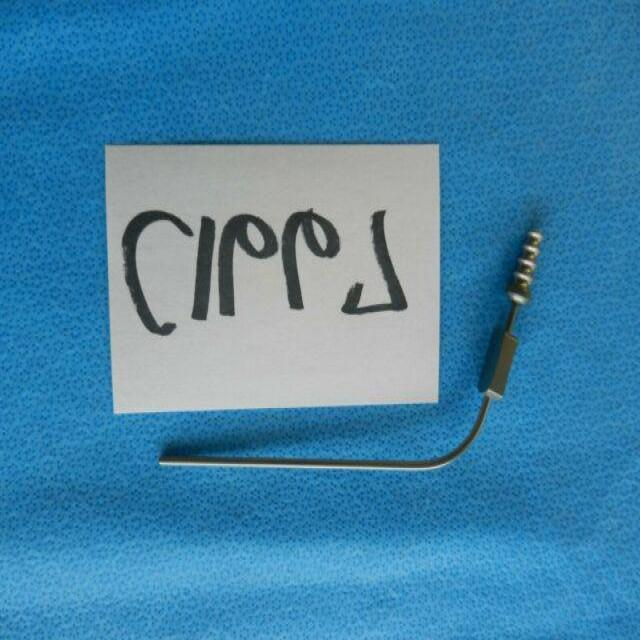Frazier: (154, 222, 549, 478)
